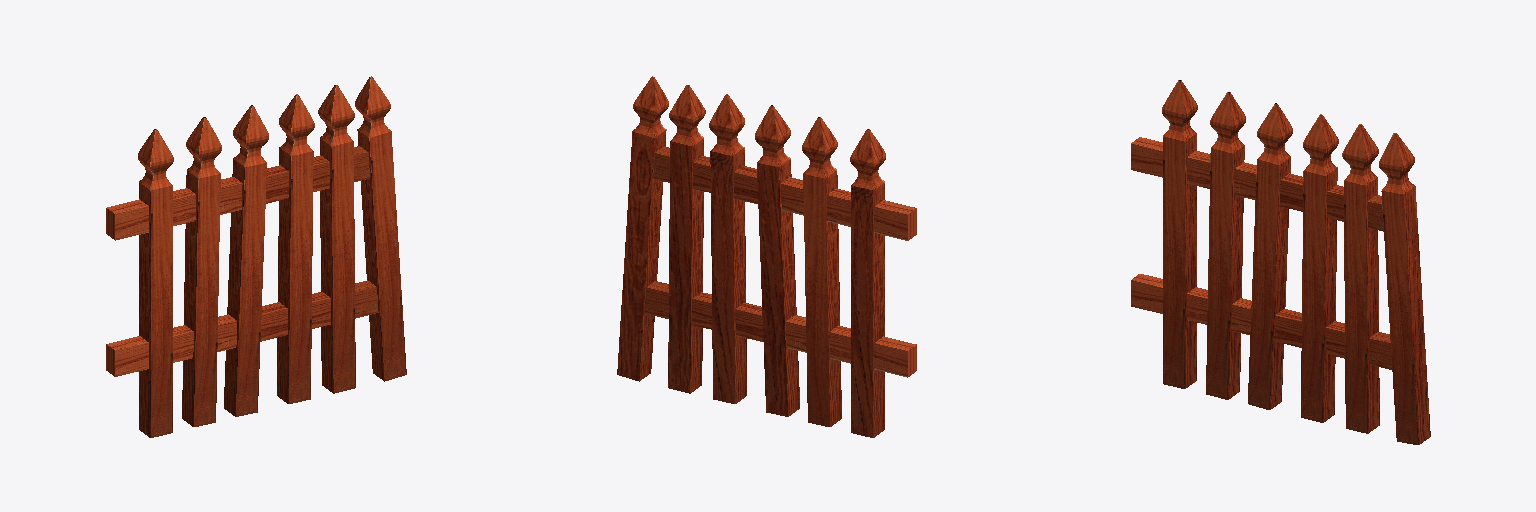
3 renders of one model, left to right at view 1: azimuth 30°, elevation 25°; view 2: azimuth 150°, elevation 25°; view 3: azimuth 330°, elevation 25°, orthographic.
Visible parts, largest first — view 1: Form1, Form3; view 2: Form1, Form3; view 3: Form1, Form3.
Part boxes in pixels (bbox=[...]): Form1: bbox=[138, 76, 406, 437]; Form3: bbox=[106, 146, 378, 376]; Form1: bbox=[617, 76, 885, 437]; Form3: bbox=[645, 146, 916, 377]; Form1: bbox=[1162, 80, 1430, 444]; Form3: bbox=[1131, 137, 1391, 369].
Size of the model in its own units: 4.83 by 4.82 by 0.3671.
1 materials, 1 textured.